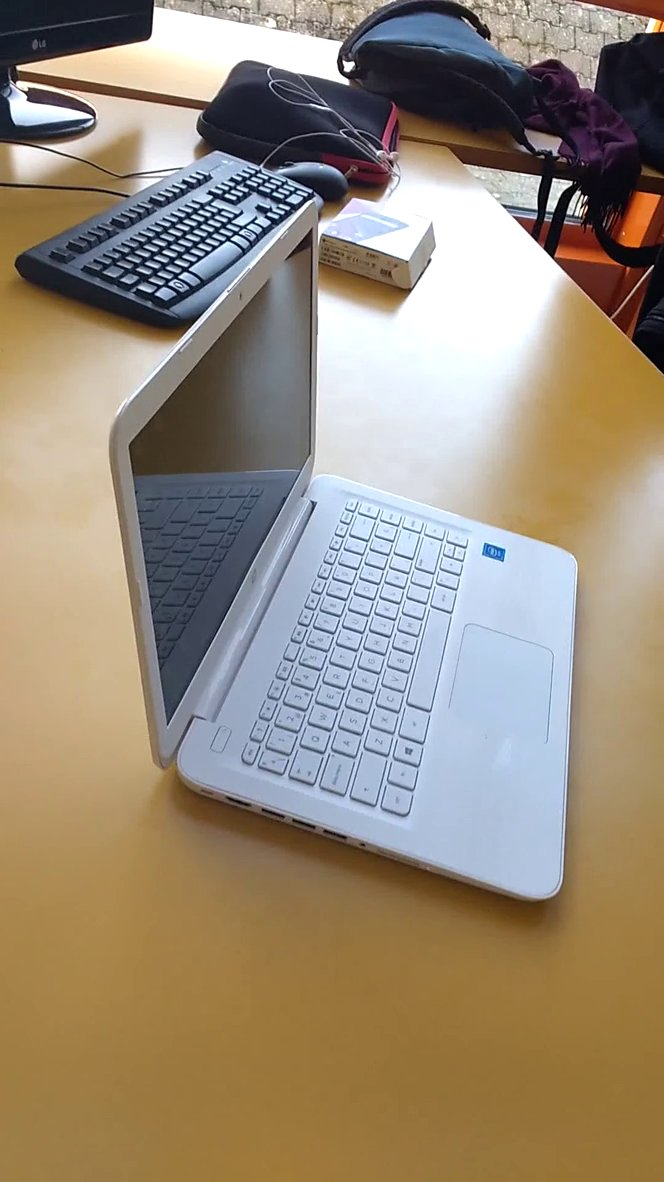bag: (323, 1, 555, 139)
laptop: (98, 194, 616, 929)
